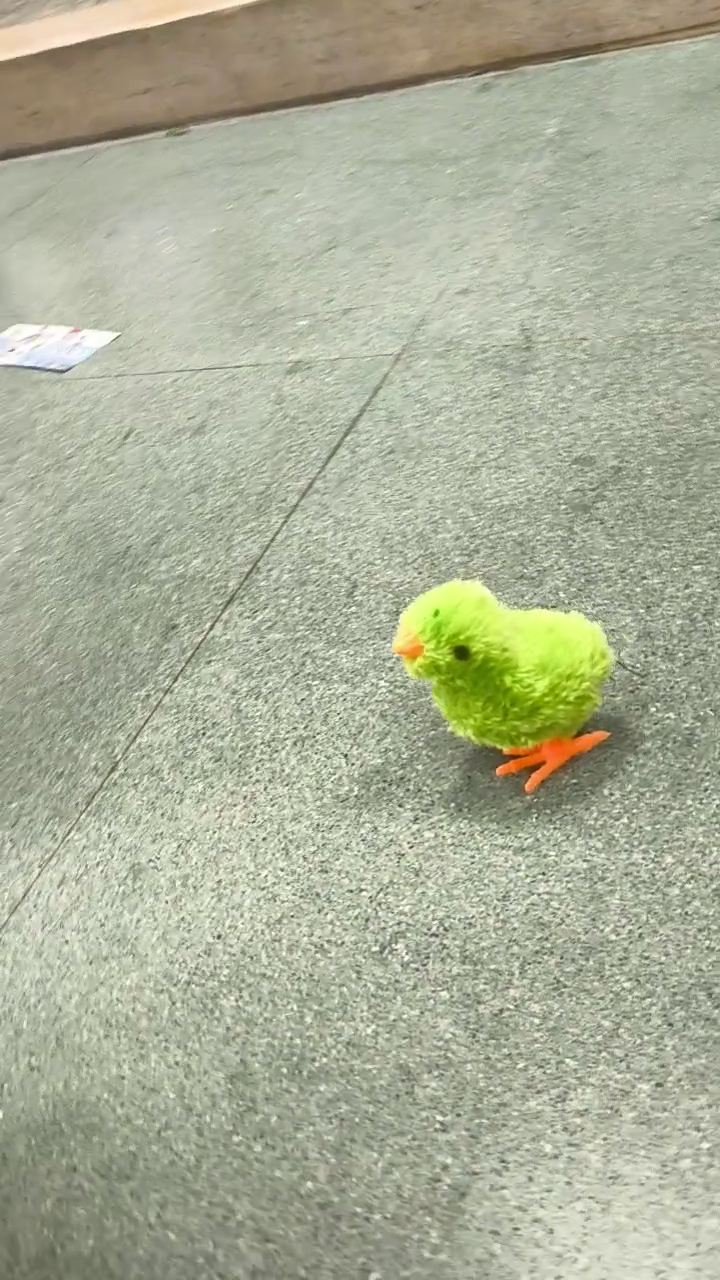green chicken: (389, 575, 620, 796)
